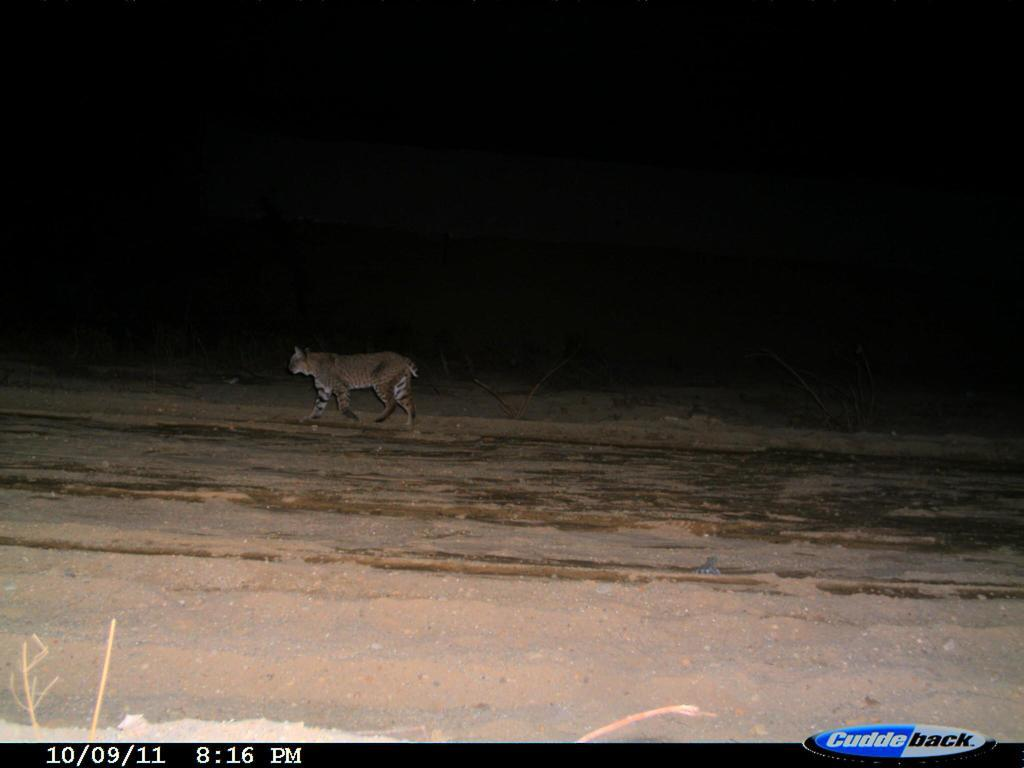bobcat: (283, 338, 423, 441)
